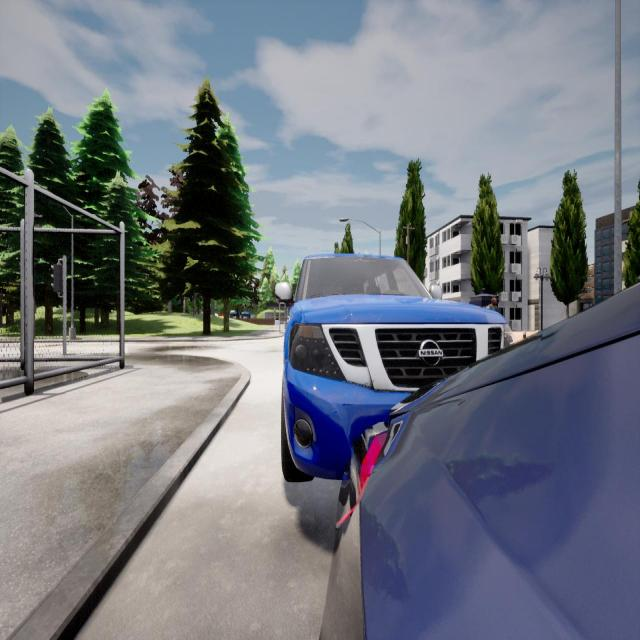Pedestrian: (487, 298, 498, 310)
Vehicle: (321, 287, 640, 640), (281, 256, 512, 482)
traffic_light: (51, 264, 62, 290)
